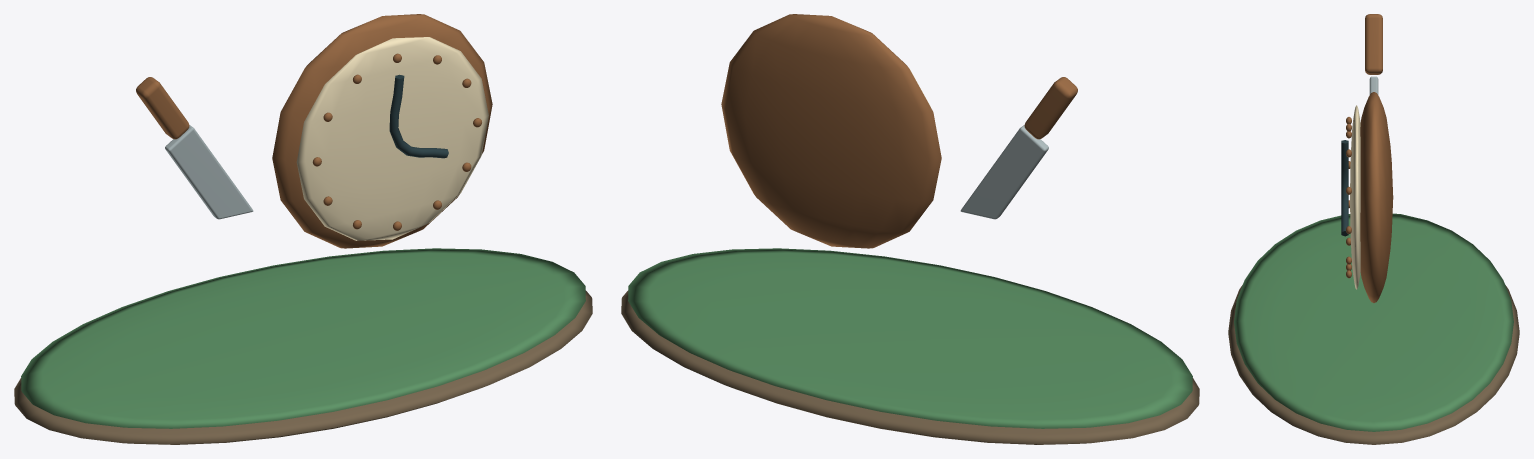
The model's file is divided-minute.glb.
3 renders of one model, left to right at view 1: azimuth 30°, elevation 25°; view 2: azimuth 150°, elevation 25°; view 3: azimuth 270°, elevation 25°, orthographic. The views are drawn at different scales.
Parts seen in each view (by area): view 1: divided-minute_surface_01, divided-minute_surface_04, divided-minute_surface_02, divided-minute_surface_00, divided-minute_surface_03, divided-minute_surface_05; view 2: divided-minute_surface_01, divided-minute_surface_02, divided-minute_surface_00, divided-minute_surface_03; view 3: divided-minute_surface_01, divided-minute_surface_02, divided-minute_surface_00, divided-minute_surface_04, divided-minute_surface_05.
Boxes of the visible parts, x1=… form: divided-minute_surface_01: x1=21, y1=248, x2=585, y2=428; divided-minute_surface_04: x1=296, y1=37, x2=488, y2=240; divided-minute_surface_02: x1=136, y1=14, x2=492, y2=248; divided-minute_surface_00: x1=14, y1=290, x2=592, y2=444; divided-minute_surface_03: x1=165, y1=125, x2=253, y2=219; divided-minute_surface_05: x1=389, y1=74, x2=448, y2=158; divided-minute_surface_01: x1=628, y1=248, x2=1192, y2=428; divided-minute_surface_02: x1=721, y1=14, x2=1077, y2=248; divided-minute_surface_00: x1=621, y1=290, x2=1199, y2=444; divided-minute_surface_03: x1=960, y1=125, x2=1048, y2=219; divided-minute_surface_01: x1=1234, y1=213, x2=1513, y2=431; divided-minute_surface_02: x1=1346, y1=14, x2=1393, y2=302; divided-minute_surface_00: x1=1228, y1=285, x2=1519, y2=444; divided-minute_surface_04: x1=1350, y1=105, x2=1360, y2=289; divided-minute_surface_05: x1=1341, y1=140, x2=1348, y2=236.
Bounding box in the file's own units: 4.56 × 2.62 × 2.5.
